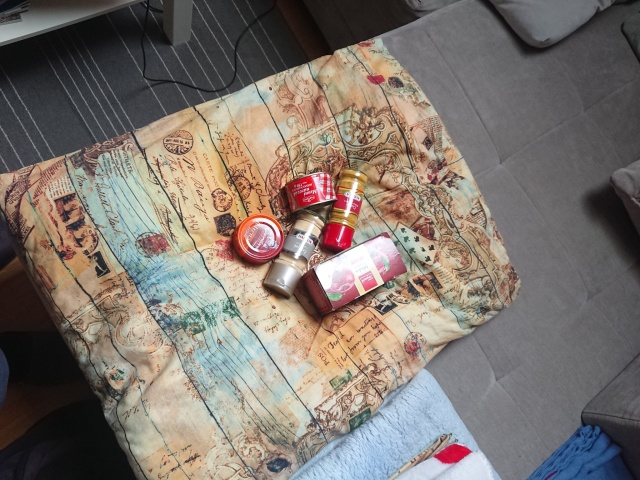Franck Apple Cinnamon Tea 60g: (298, 229, 410, 318)
Gavrilovic Pork Liver Pate 100g: (229, 212, 287, 268)
Kotanyi Curry Spices Mix 70g: (320, 166, 370, 255)
Kotanyi Garlic Granules 70g: (260, 207, 328, 300)
Podravka Luncheon Meat 150g: (282, 169, 341, 216)
